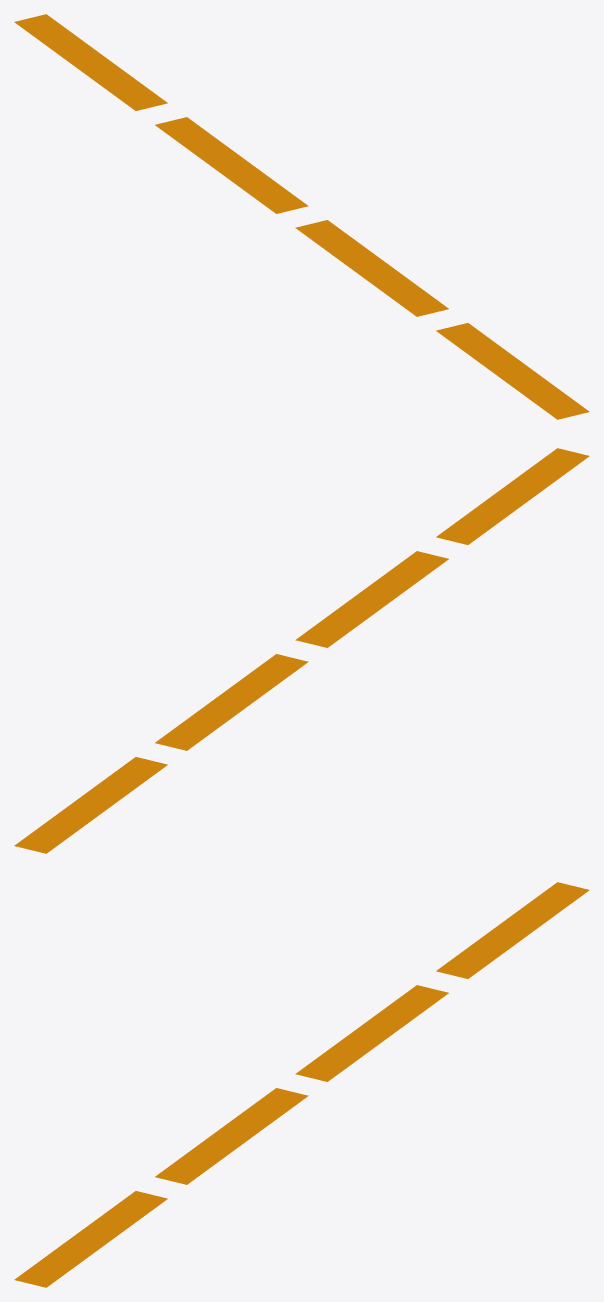
Rendered from Straight Skinny Lines.fbx.
The picture shows the model from 3 angles, top to bottom: view 1: azimuth 30°, elevation 25°; view 2: azimuth 150°, elevation 25°; view 3: azimuth 330°, elevation 25°; orthographic projection.
Parts seen in each view (by area): view 1: Straight Skinny Lines; view 2: Straight Skinny Lines; view 3: Straight Skinny Lines.
Boxes of the visible parts, bbox=[...] form: Straight Skinny Lines: bbox=[14, 14, 589, 419]; Straight Skinny Lines: bbox=[14, 448, 589, 853]; Straight Skinny Lines: bbox=[14, 882, 589, 1287].
Size of the model in its own units: 0.1 by 0 by 2.9.
